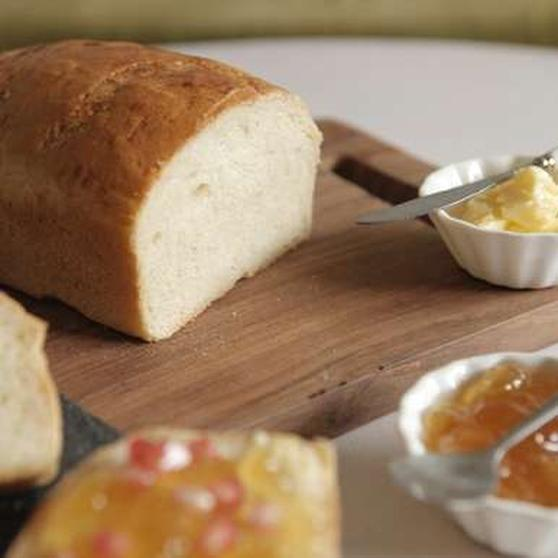white_bread: (6, 40, 320, 339)
